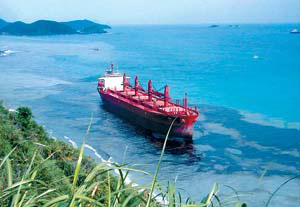Cargoship: (93, 61, 199, 137)
